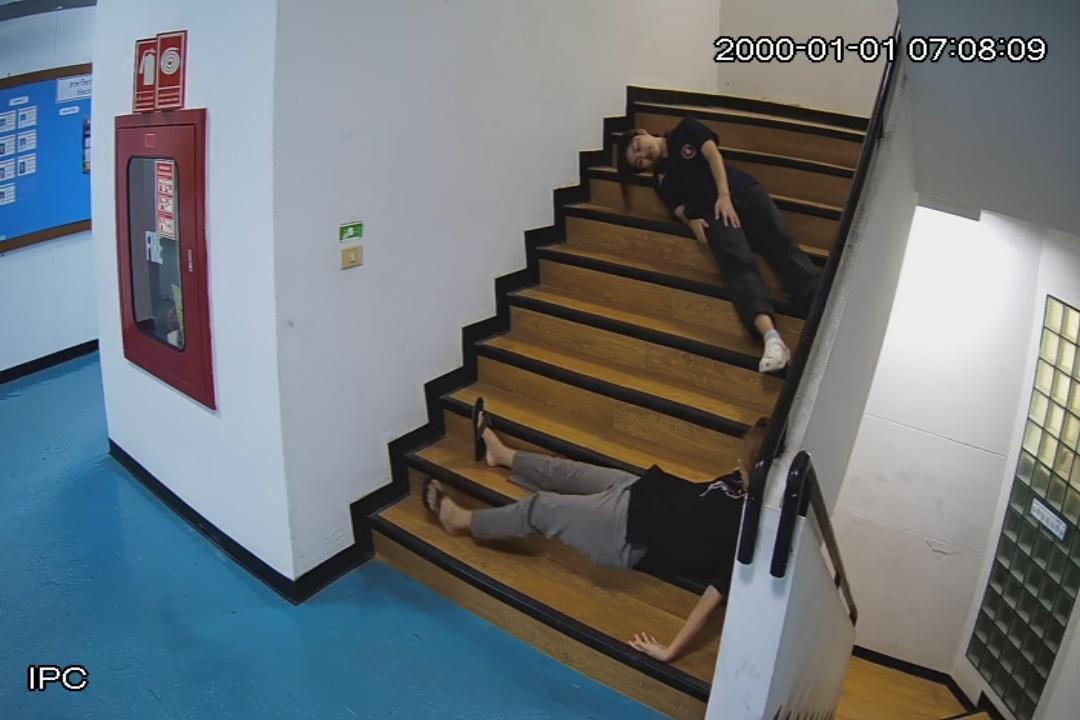fall: (429, 401, 764, 657), (620, 118, 826, 372)
